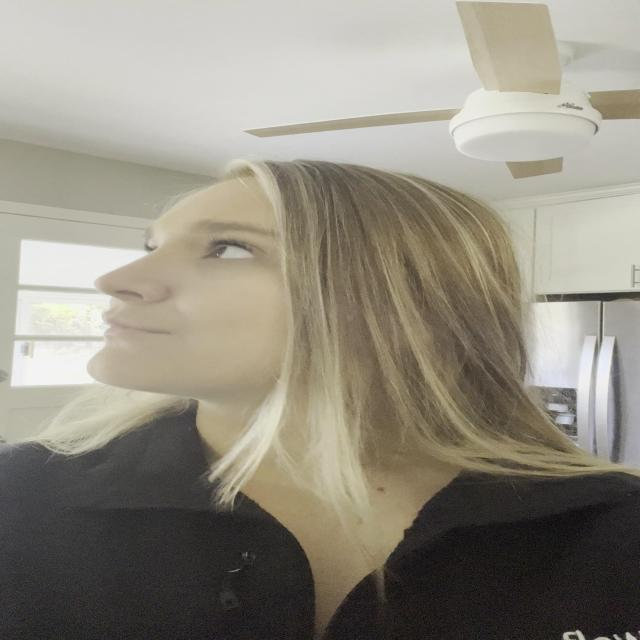no-helmet: (84, 172, 310, 398)
